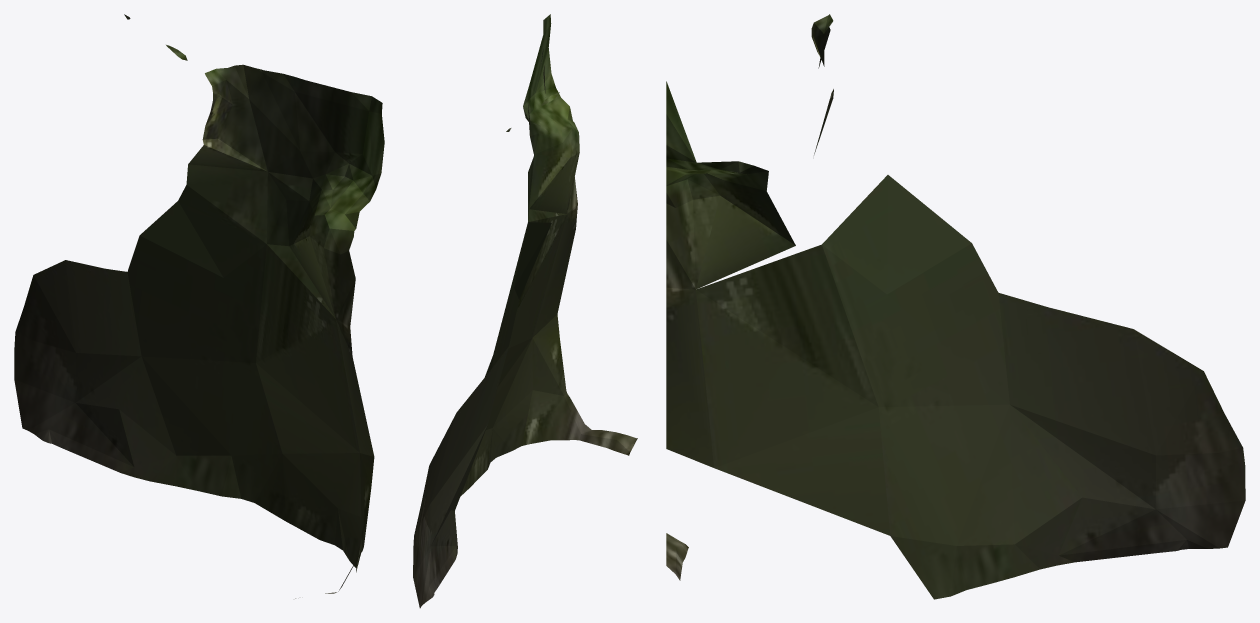
3 renders of one model, left to right at view 1: azimuth 30°, elevation 25°; view 2: azimuth 150°, elevation 25°; view 3: azimuth 270°, elevation 25°, orthographic. The views are drawn at different scales.
Size of the model in its own units: 0.7282 by 2.95 by 2.9.
2 materials, 2 textured.
